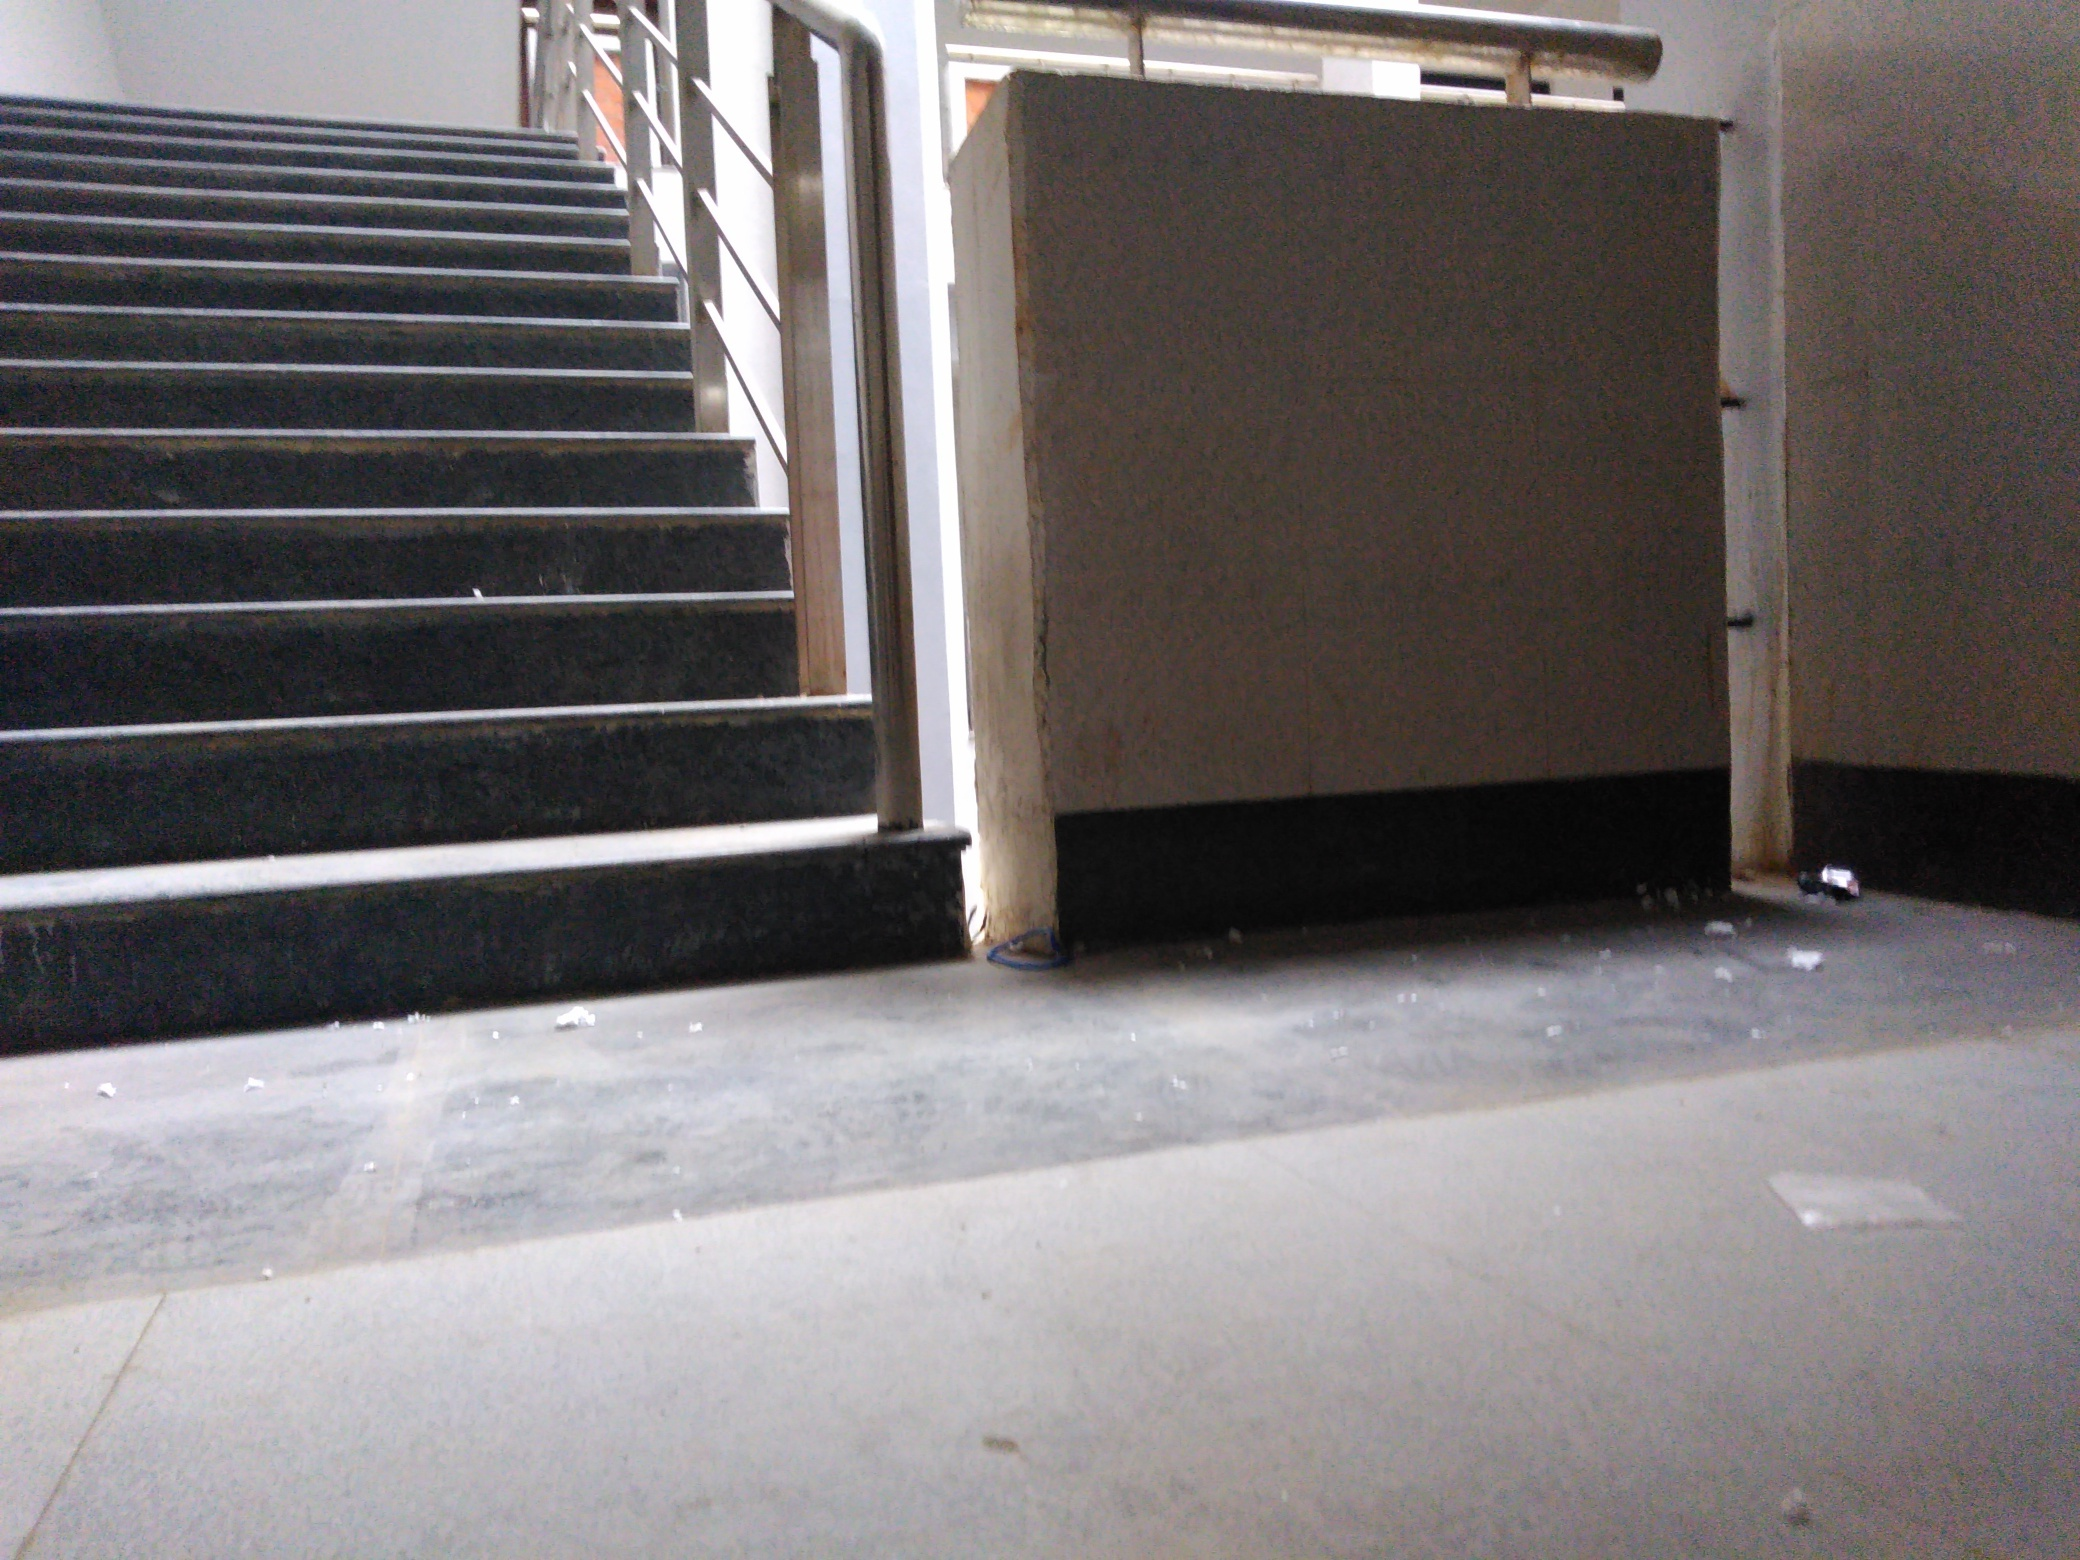stairs_up: (10, 102, 930, 973)
